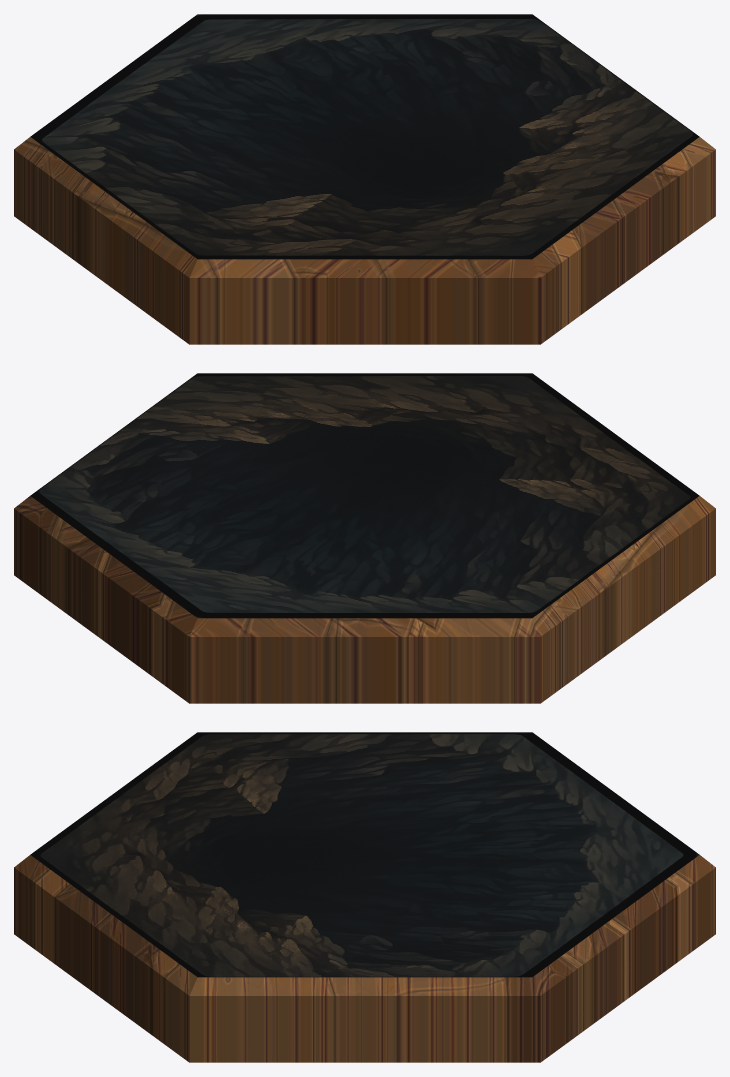
The model's file is the-mouth.glb.
The picture shows the model from 3 angles, top to bottom: view 1: azimuth 30°, elevation 25°; view 2: azimuth 150°, elevation 25°; view 3: azimuth 270°, elevation 25°; orthographic projection.
Parts seen in each view (by area): view 1: Circle; view 2: Circle; view 3: Circle.
Part boxes in pixels (<box>): Circle: <box>14,14,715,344</box>; Circle: <box>14,373,715,703</box>; Circle: <box>14,732,715,1062</box>.
Bounding box in the file's own units: 1.73 × 0.25 × 2.
2 materials, 2 textured.
